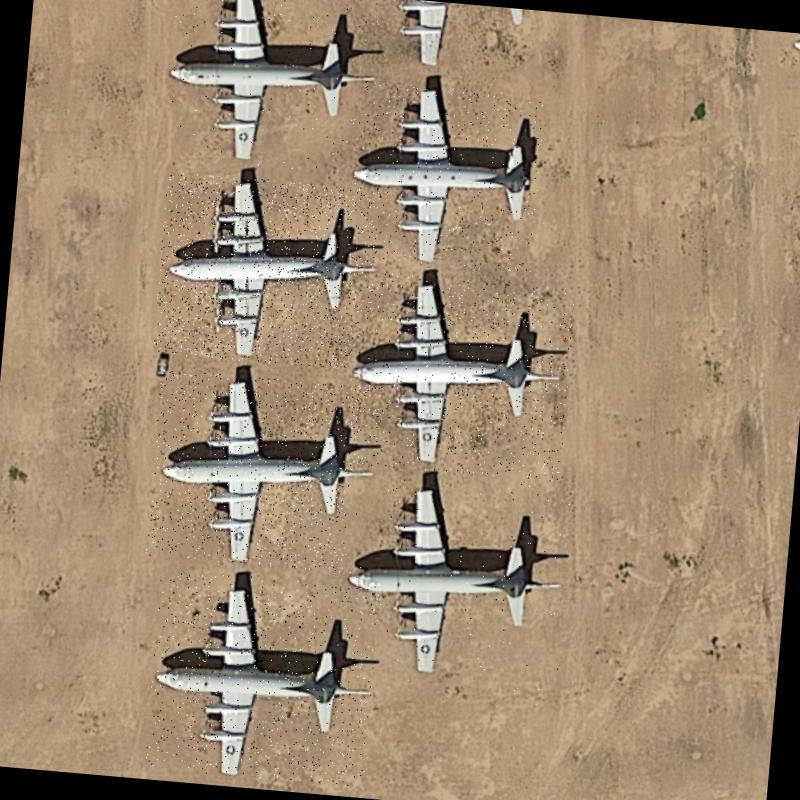A9: (334, 464, 576, 695), (144, 568, 381, 787), (341, 271, 576, 485), (145, 369, 381, 575), (152, 171, 382, 372), (160, 0, 387, 179), (345, 80, 546, 274)
